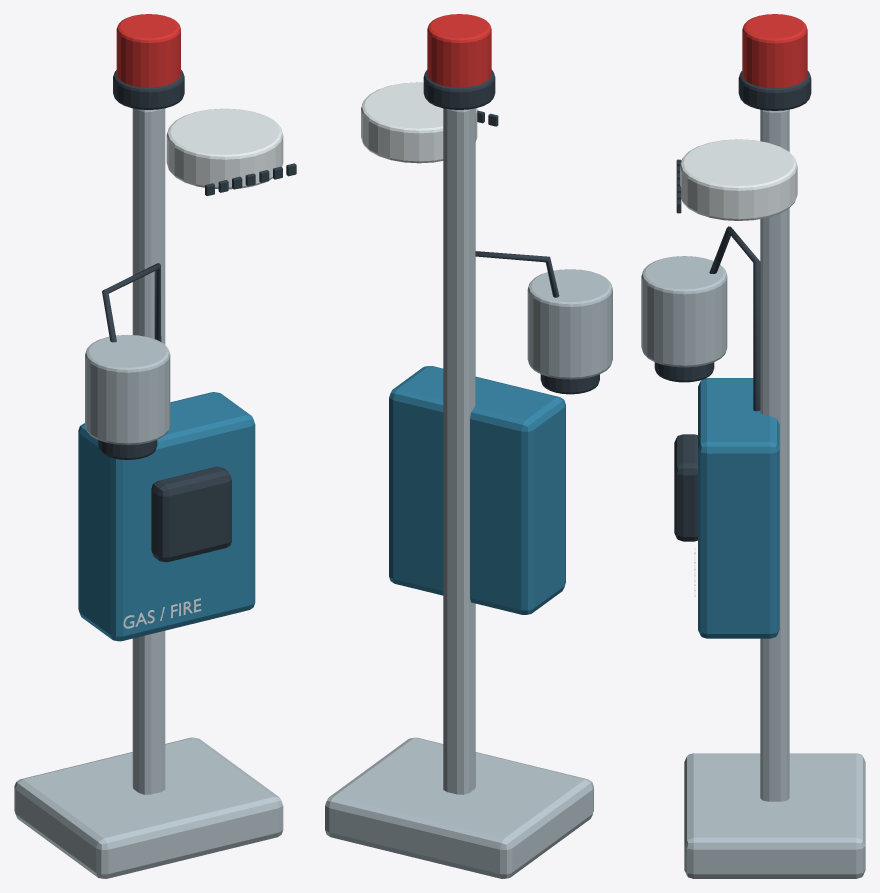
Rendered from warehouseFire.glb.
The picture shows the model from 3 angles, left to right: view 1: azimuth 30°, elevation 25°; view 2: azimuth 150°, elevation 25°; view 3: azimuth 270°, elevation 25°; orthographic projection.
Visible parts, largest first — view 1: Safety monitoring cabinet, Safety mast base, Safety mast, Gas sensor housing, Smoke detector housing, Sounder, AlarmBeacon, Beacon mount, Gas probe cable, Smoke detector air slot, Gas sensing inlet; view 2: Safety monitoring cabinet, Safety mast base, Safety mast, Gas sensor housing, Smoke detector housing, AlarmBeacon, Beacon mount, Gas sensing inlet, Gas probe cable; view 3: Safety mast base, Safety monitoring cabinet, Safety mast, Gas sensor housing, Smoke detector housing, AlarmBeacon, Sounder, Gas probe cable, Beacon mount, Gas sensing inlet.
Part boxes in pixels (x1,y1,x2,y2): Safety monitoring cabinet: (78, 392, 255, 641); Safety mast base: (14, 737, 283, 878); Safety mast: (132, 108, 165, 794); Gas sensor housing: (85, 335, 170, 445); Smoke detector housing: (166, 108, 283, 189); Sounder: (151, 466, 231, 562); AlarmBeacon: (116, 14, 180, 87); Beacon mount: (113, 70, 184, 109); Gas probe cable: (102, 263, 161, 342); Smoke detector air slot: (205, 163, 296, 195); Gas sensing inlet: (98, 440, 157, 459); Safety monitoring cabinet: (389, 366, 565, 614); Safety mast base: (325, 737, 593, 878); Safety mast: (443, 108, 475, 794); Gas sensor housing: (527, 269, 612, 379); Smoke detector housing: (361, 82, 477, 163); AlarmBeacon: (427, 14, 491, 87); Beacon mount: (423, 70, 495, 109); Gas sensing inlet: (540, 374, 599, 394); Gas probe cable: (475, 251, 559, 297); Safety mast base: (684, 753, 865, 878); Safety monitoring cabinet: (698, 378, 779, 638); Safety mast: (760, 109, 789, 801); Gas sensor housing: (641, 256, 727, 367); Smoke detector housing: (680, 139, 797, 220); AlarmBeacon: (742, 14, 807, 88); Sounder: (674, 434, 697, 541); Gas probe cable: (709, 226, 760, 411); Beacon mount: (738, 71, 811, 110); Gas sensing inlet: (654, 362, 714, 382).
Bounding box in the file's own units: 0.545 × 1.97 × 0.495.
